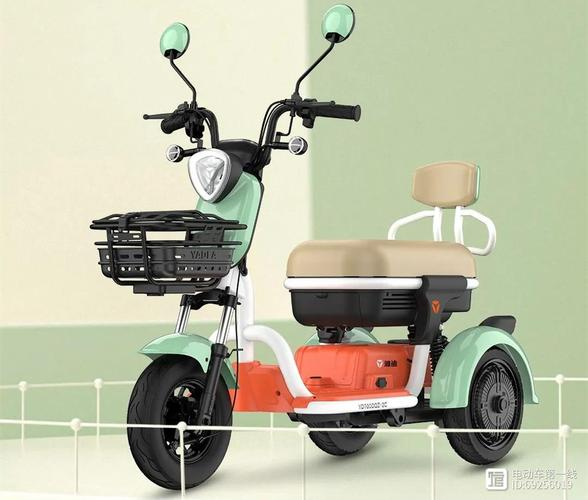empty: (102, 29, 536, 483)
